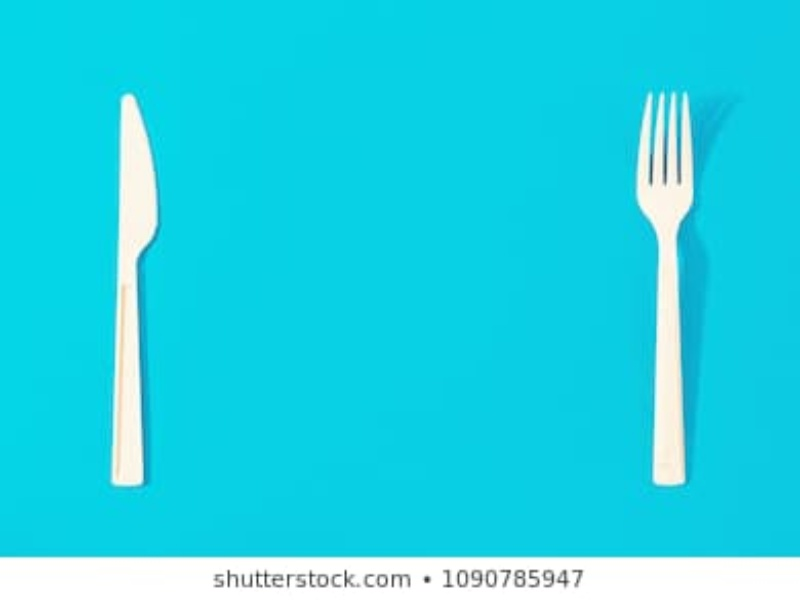plastic-silverware: (632, 85, 698, 488), (111, 92, 159, 489)
